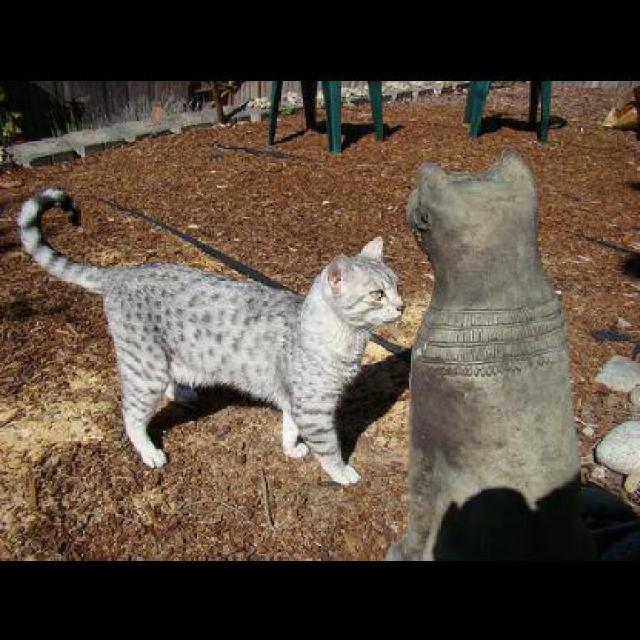unauthorized: (14, 186, 406, 486)
